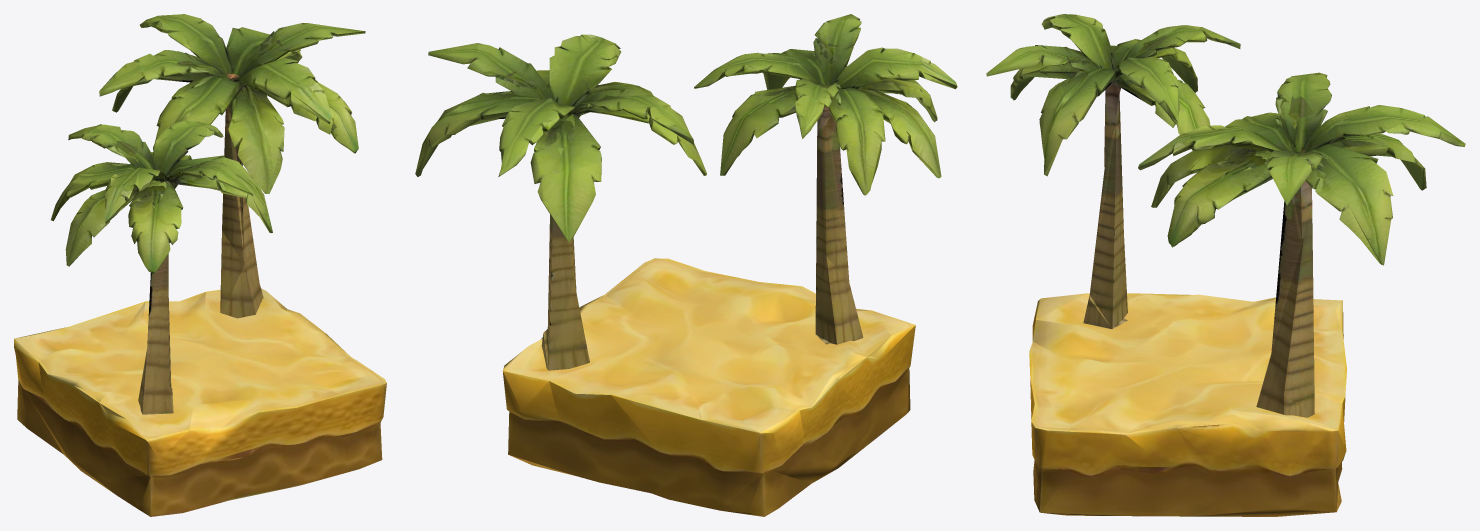
The model's file is veg_palms.glb.
The picture shows the model from 3 angles, left to right: view 1: azimuth 30°, elevation 25°; view 2: azimuth 150°, elevation 25°; view 3: azimuth 270°, elevation 25°; orthographic projection. The views are drawn at different scales.
Visible parts, largest first — view 1: Mesh0, Mesh1.001, Mesh1.0; view 2: Mesh0, Mesh1.0, Mesh1.001; view 3: Mesh0, Mesh1.001, Mesh1.0.
Boxes of the visible parts, x1,y1,x2,y2 form: Mesh0: (14,288,386,516); Mesh1.001: (99,14,365,318); Mesh1.0: (51,120,272,414); Mesh0: (502,258,915,516); Mesh1.0: (694,14,957,344); Mesh1.001: (415,34,706,370); Mesh0: (1029,293,1346,516); Mesh1.001: (1138,72,1465,417); Mesh1.0: (986,14,1240,329).
Bounding box in the file's own units: 2.92 × 2.53 × 2.87.
Materials: 2 (2 with a texture image).
